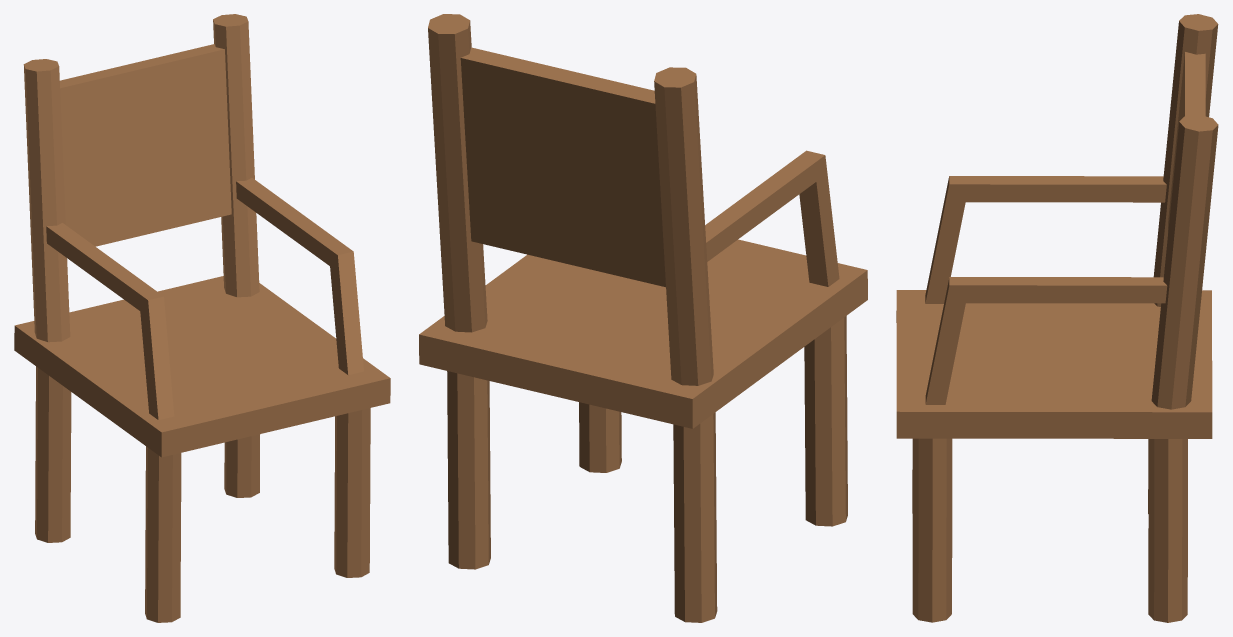
File: 10 Chair.FBX
The picture shows the model from 3 angles, left to right: view 1: azimuth 30°, elevation 25°; view 2: azimuth 150°, elevation 25°; view 3: azimuth 270°, elevation 25°; orthographic projection. The views are drawn at different scales.
Parts seen in each view (by area): view 1: Box079; view 2: Box079; view 3: Box079.
Boxes of the visible parts, x1,y1,x2,y2 form: Box079: (14, 14, 390, 622); Box079: (419, 14, 867, 622); Box079: (896, 14, 1218, 622).
Size of the model in its own units: 433 by 833 by 490.
